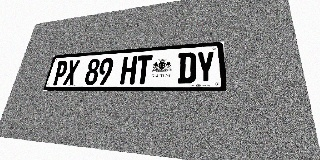8: (83, 58, 101, 85)
9: (96, 57, 114, 85)
D: (177, 52, 196, 84)
H: (120, 56, 138, 84)
P: (52, 61, 69, 85)
T: (135, 55, 153, 84)
X: (63, 60, 80, 85)
Y: (196, 51, 216, 83)
